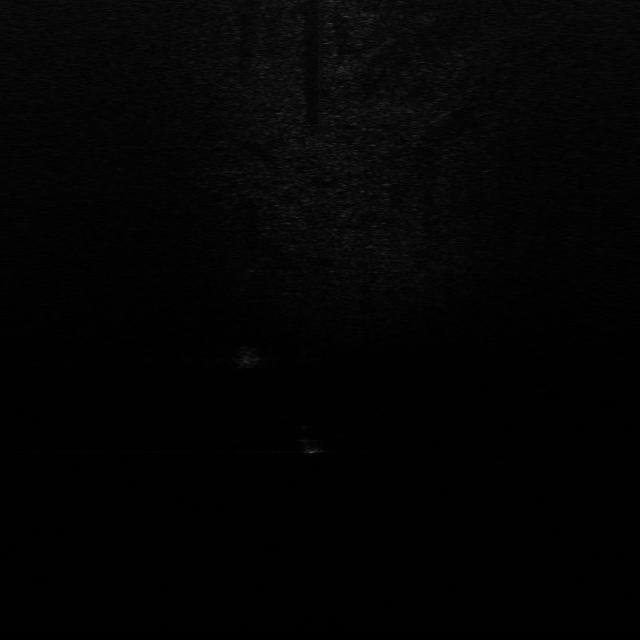circle cage: (230, 338, 264, 372)
tyre: (289, 420, 333, 457)
